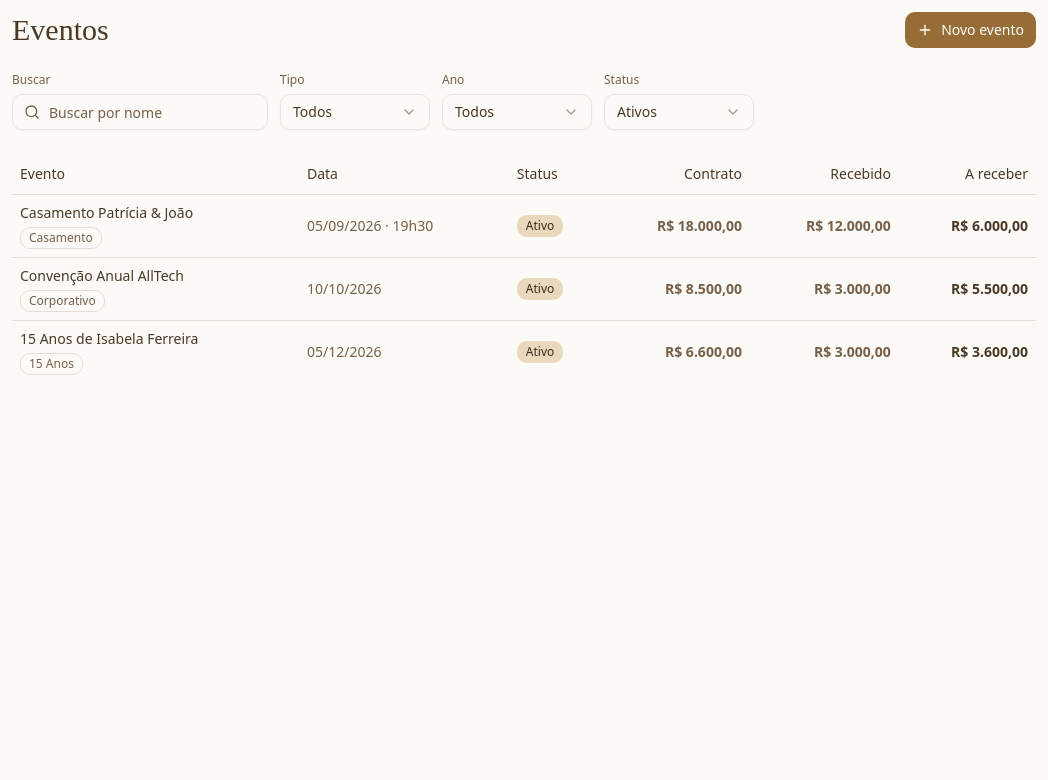
Test: EventosPage › switching the Status filter to Todos shows all 6 seeded events
Expected: the number of rows is 4, [12,154,1036,194]; [12,194,1036,257]; [12,257,1036,320]; [12,320,1036,382]
Click the dropdown named "Status": click(679, 112) [604,94,754,130]
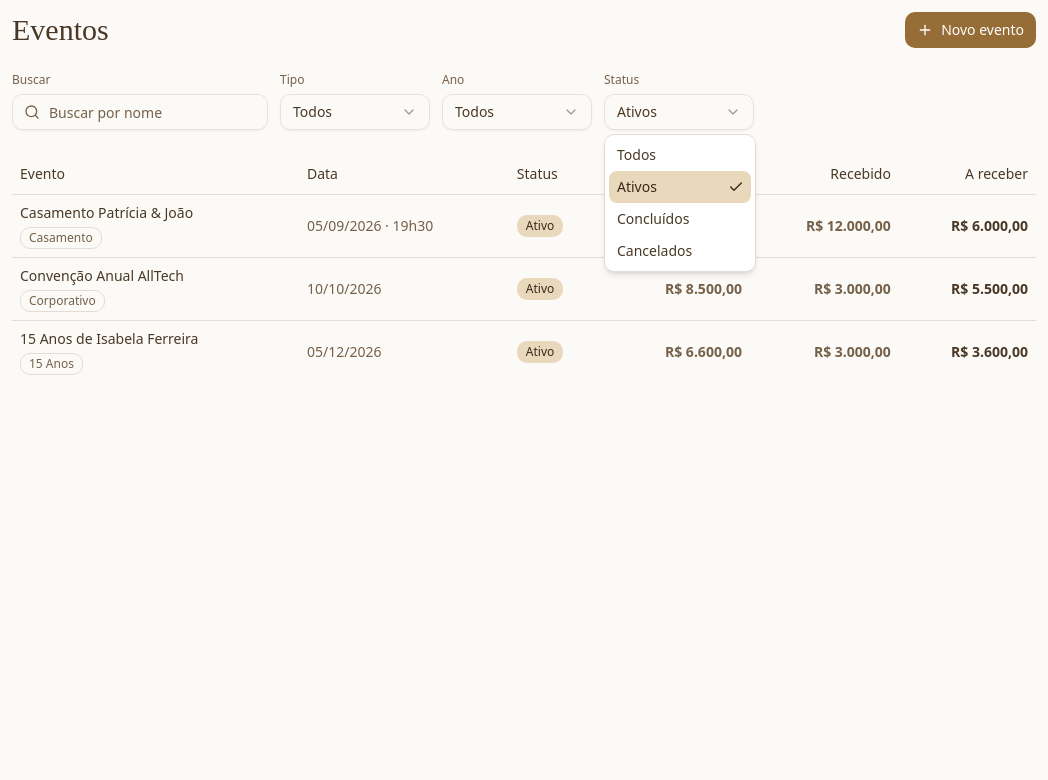
Click the option "Todos": click(637, 154) [617,145,656,164]
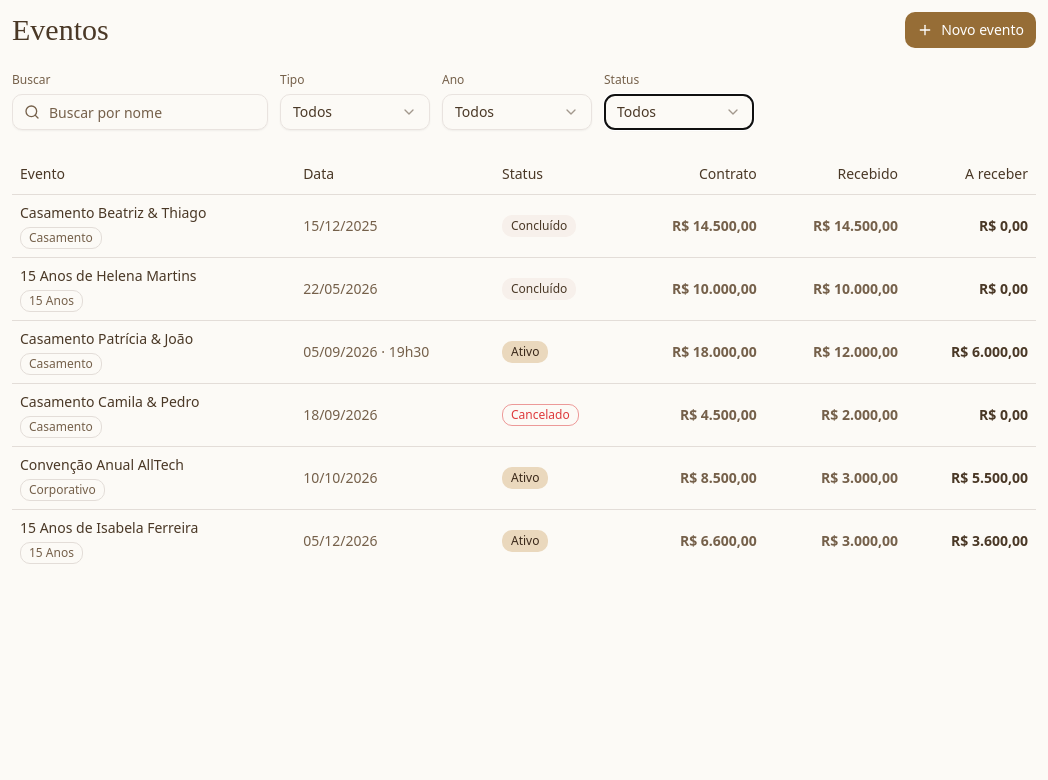
Expected: the number of rows is 7
Expected: the text "Casamento Beatriz & Thiago" is shown, [20,202,206,222]
Expected: the text "15 Anos de Helena Martins" is shown, [20,266,196,284]
